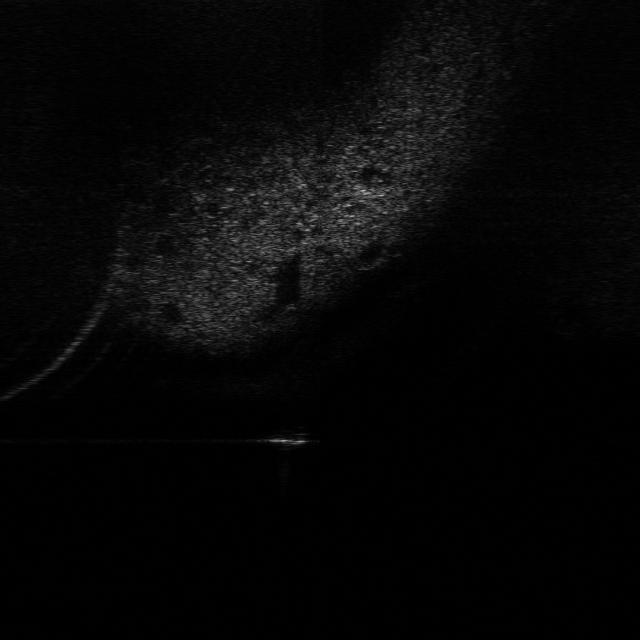cube: (260, 424, 312, 452)
